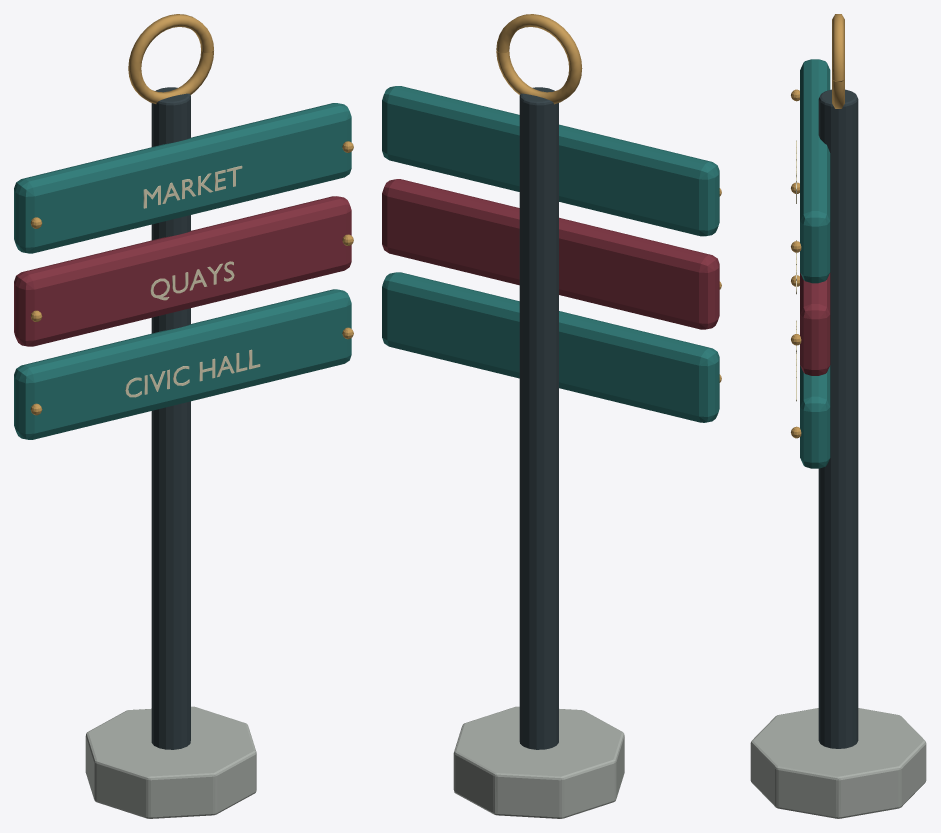
Rendered from prop_aegis_civic_waymarker.glb.
3 renders of one model, left to right at view 1: azimuth 30°, elevation 25°; view 2: azimuth 150°, elevation 25°; view 3: azimuth 270°, elevation 25°, orthographic.
Parts seen in each view (by area): view 1: aegis_civic_waymarker.001; view 2: aegis_civic_waymarker.001; view 3: aegis_civic_waymarker.001.
Boxes of the visible parts, left/top/right/bottom form: aegis_civic_waymarker.001: left=14, top=14, right=353, bottom=818; aegis_civic_waymarker.001: left=382, top=14, right=721, bottom=818; aegis_civic_waymarker.001: left=750, top=14, right=926, bottom=818.
Size of the model in its own units: 1.64 by 3.62 by 0.7562.
